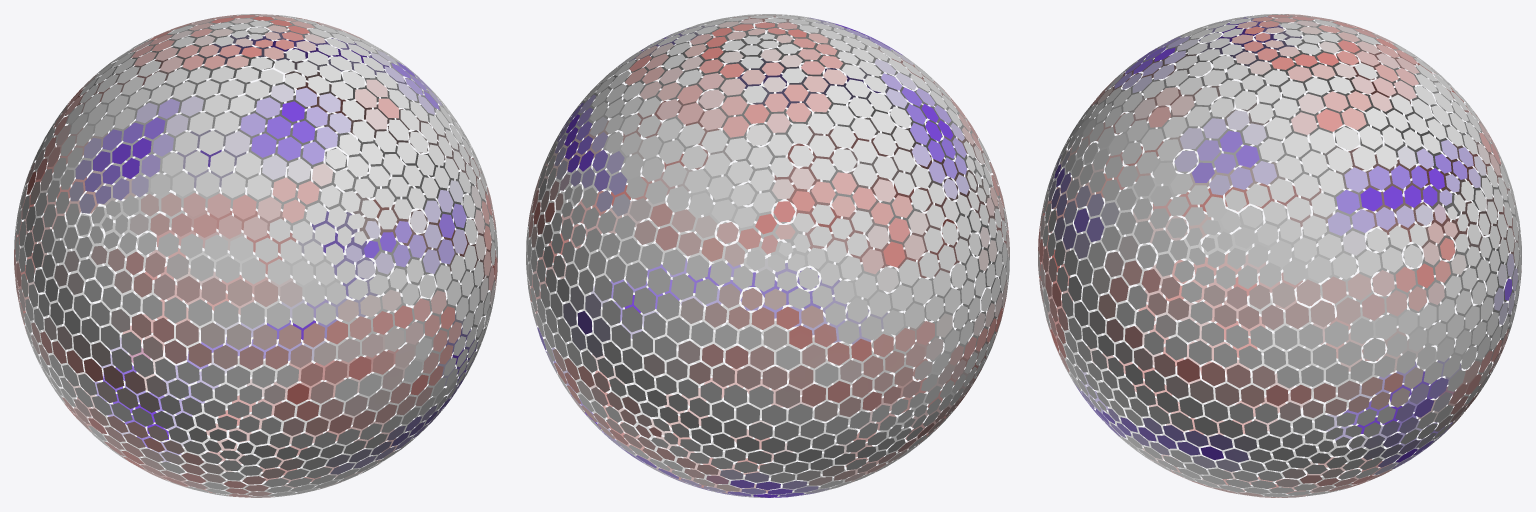
Rendered from mass_gas.fbx.
3 renders of one model, left to right at view 1: azimuth 30°, elevation 25°; view 2: azimuth 150°, elevation 25°; view 3: azimuth 270°, elevation 25°, orthographic.
Parts seen in each view (by area): view 1: mass_gas_giant; view 2: mass_gas_giant; view 3: mass_gas_giant.
Part boxes in pixels (<box>): mass_gas_giant: <box>14,14,497,497</box>; mass_gas_giant: <box>526,14,1009,497</box>; mass_gas_giant: <box>1038,14,1521,497</box>.
Bounding box in the file's own units: 209 × 209 × 209.
